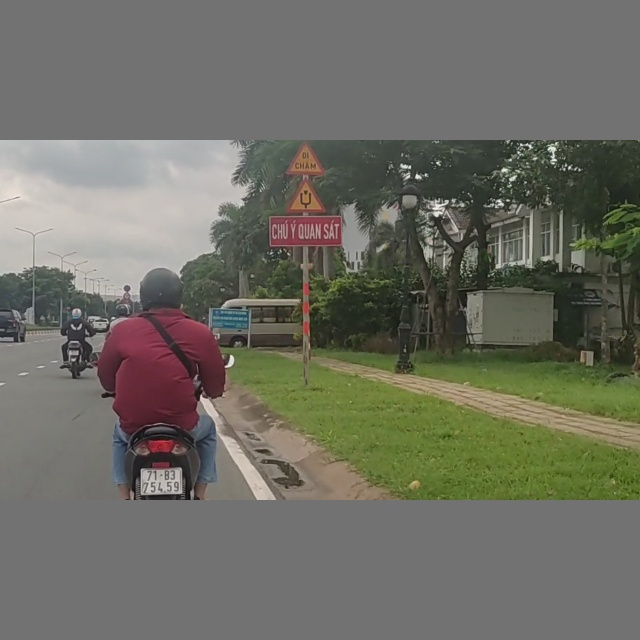P.102: (65, 305, 71, 310)
P.130: (123, 284, 132, 292)
R.302a: (65, 309, 71, 315)
W.245a: (285, 142, 325, 175)
W.246a: (286, 178, 326, 213)
